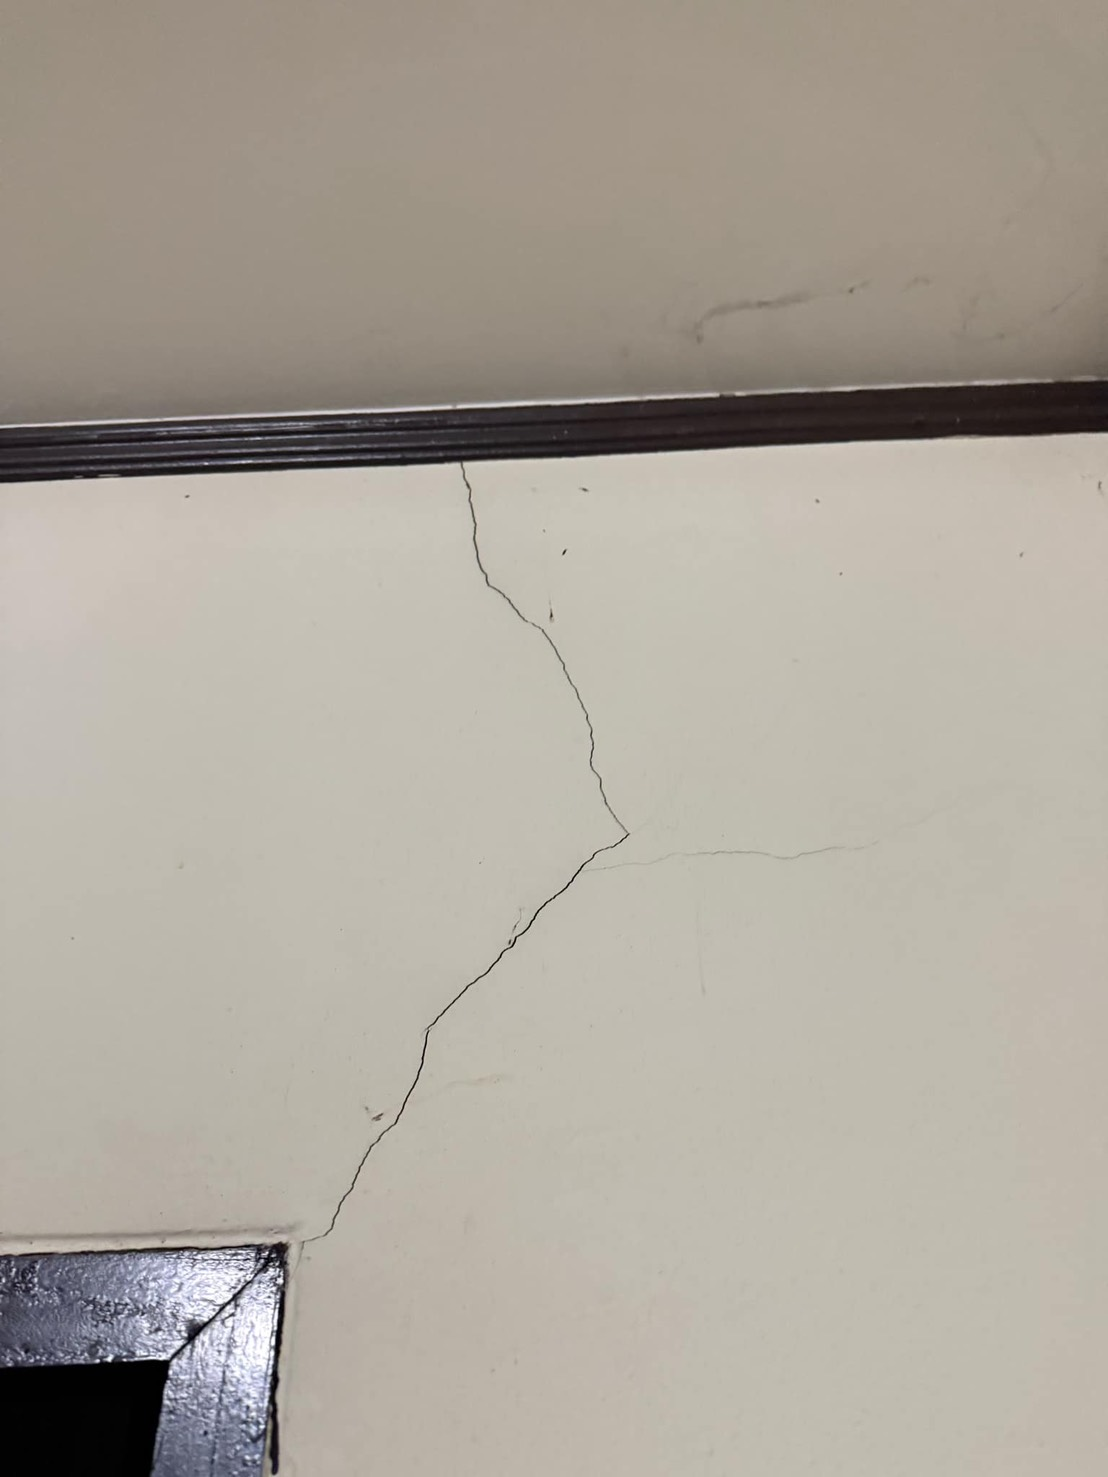Low: (277, 432, 648, 1274)
